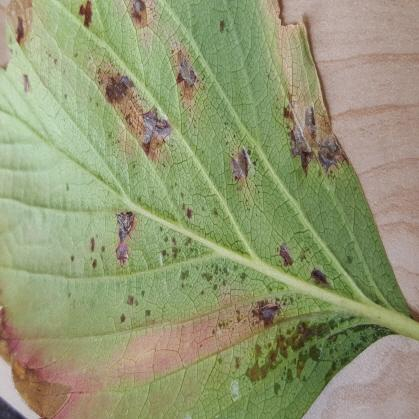Angular Leafspot: (0, 0, 408, 418)
